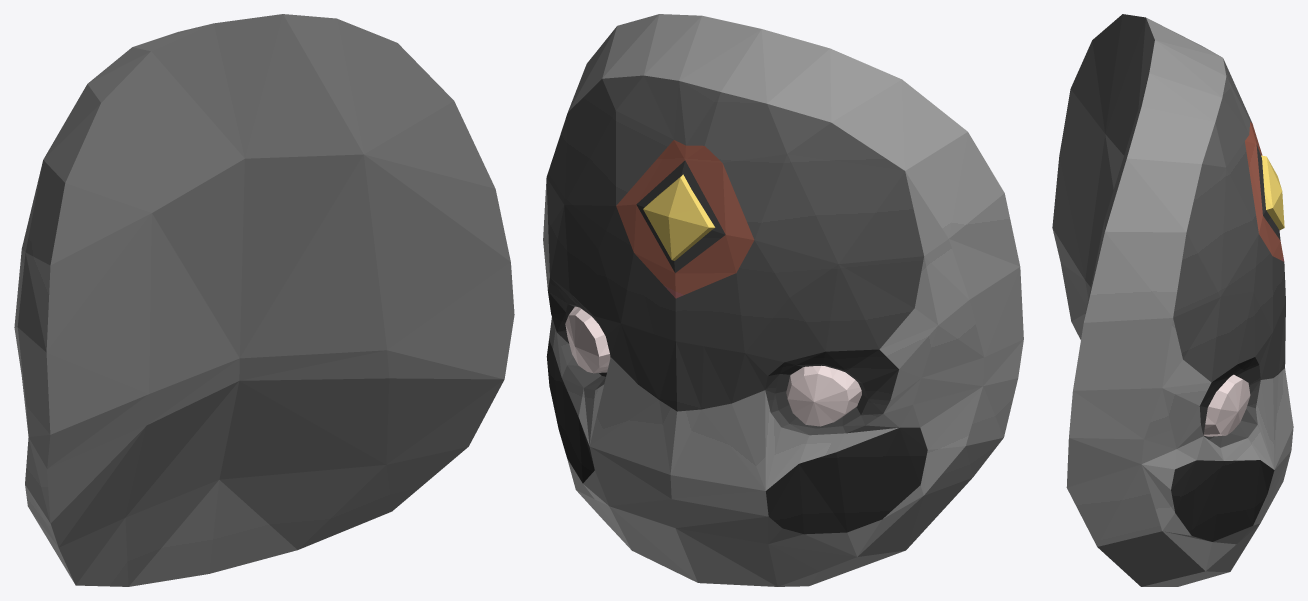
Rendered from CharSkyKid_Mask_SparrowCheeks.glb.
The picture shows the model from 3 angles, left to right: view 1: azimuth 30°, elevation 25°; view 2: azimuth 150°, elevation 25°; view 3: azimuth 270°, elevation 25°; orthographic projection. The views are drawn at different scales.
Visible parts, largest first — view 1: CharSkyKid_Mask_SparrowCheeks; view 2: CharSkyKid_Mask_SparrowCheeks; view 3: CharSkyKid_Mask_SparrowCheeks.
Boxes of the visible parts, left/top/right/bottom form: CharSkyKid_Mask_SparrowCheeks: left=14, top=14, right=514, bottom=586; CharSkyKid_Mask_SparrowCheeks: left=543, top=14, right=1023, bottom=586; CharSkyKid_Mask_SparrowCheeks: left=1052, top=14, right=1293, bottom=586.
Bounding box in the file's own units: 2.15 × 2.49 × 1.06.
Materials: 1 (1 with a texture image).
